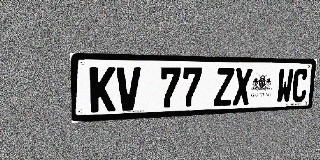7: (158, 67, 181, 109), (180, 68, 202, 108)
C: (291, 69, 309, 103)
K: (90, 67, 116, 112)
V: (116, 67, 141, 111)
W: (276, 68, 294, 103)
X: (232, 68, 252, 105)
Z: (214, 68, 234, 106)
